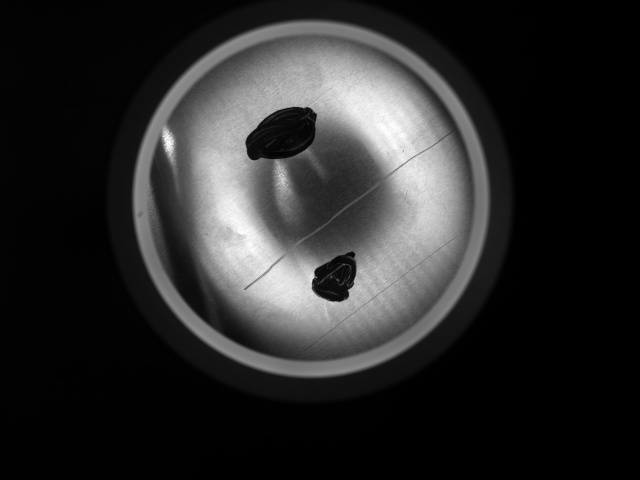ca_shang: (246, 129, 452, 291), (287, 224, 470, 358)
zang_wu: (244, 106, 321, 165), (308, 246, 360, 305)
